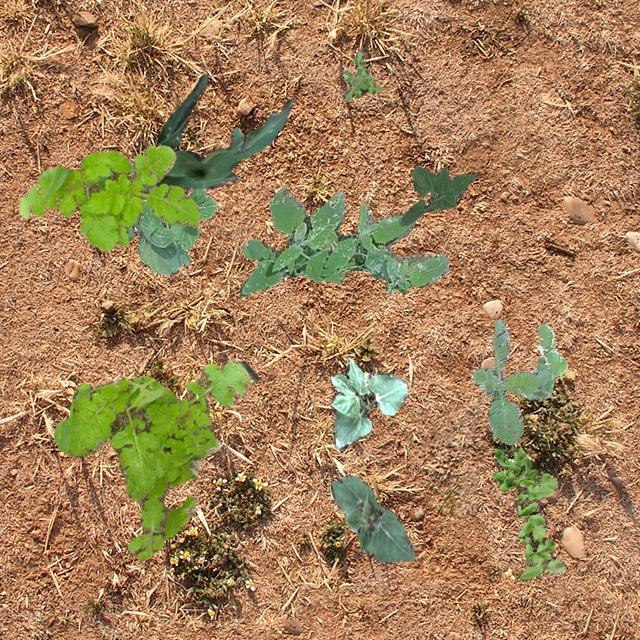crop: (154, 73, 292, 189), (127, 160, 216, 274), (330, 354, 408, 448), (330, 476, 414, 562), (398, 166, 476, 224)
weed: (52, 358, 258, 562), (240, 184, 448, 296), (18, 144, 198, 250), (469, 318, 566, 444), (492, 446, 566, 578), (342, 48, 381, 100)
